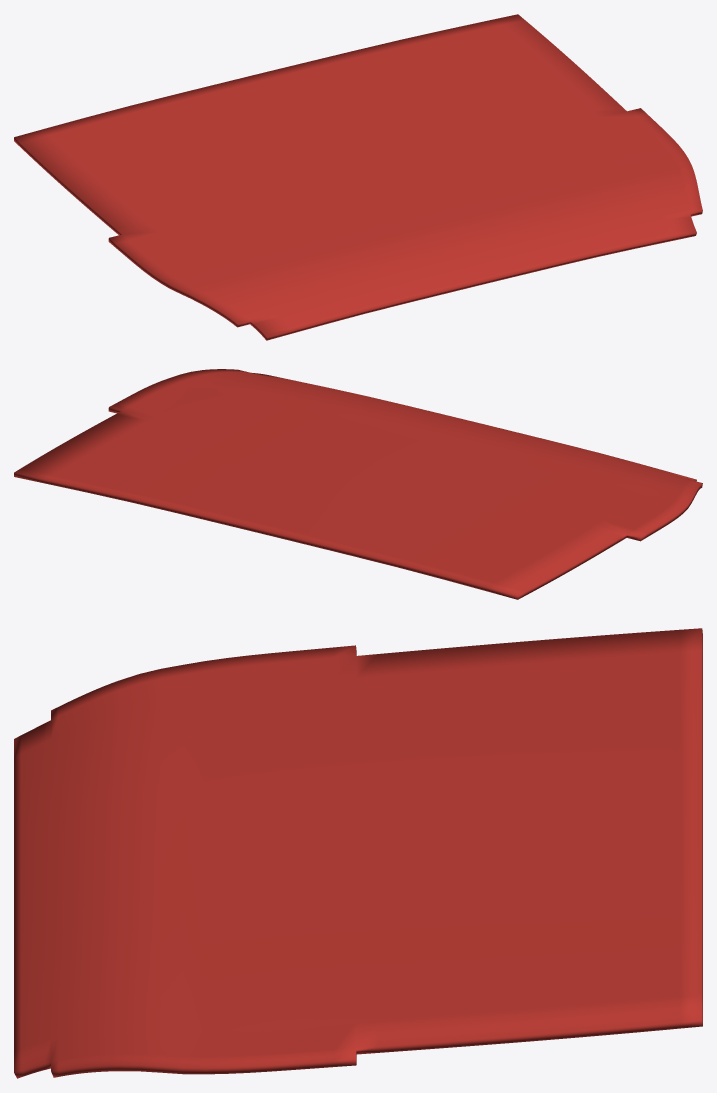
The model's file is Hatch_Hood.fbx.
3 renders of one model, top to bottom at view 1: azimuth 30°, elevation 25°; view 2: azimuth 150°, elevation 25°; view 3: azimuth 270°, elevation 25°, orthographic. The views are drawn at different scales.
Visible parts, largest first — view 1: Hatch_Hood_LOD0; view 2: Hatch_Hood_LOD0; view 3: Hatch_Hood_LOD0.
Boxes of the visible parts, left/top/right/bottom form: Hatch_Hood_LOD0: left=14, top=14, right=702, bottom=340; Hatch_Hood_LOD0: left=14, top=369, right=702, bottom=599; Hatch_Hood_LOD0: left=14, top=628, right=702, bottom=1078.
Size of what is drawn, in the model's own units: 1.58 by 0.1672 by 1.11.
